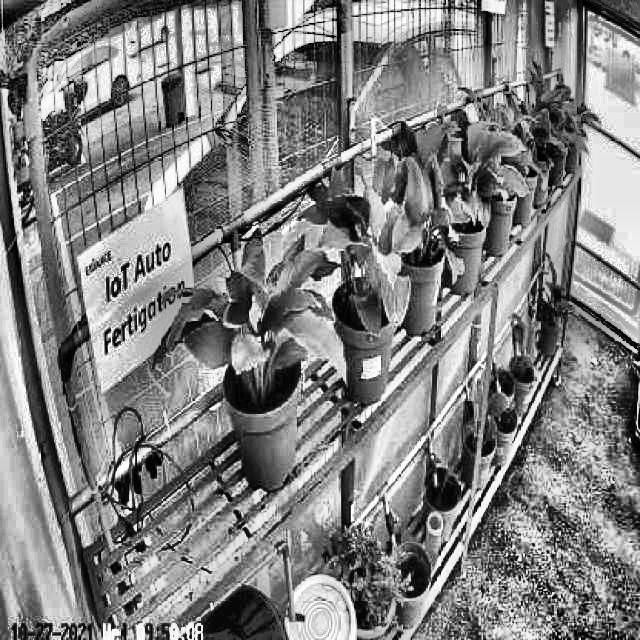plants: (149, 227, 346, 406), (368, 130, 466, 308), (319, 177, 410, 334), (422, 115, 532, 238)
